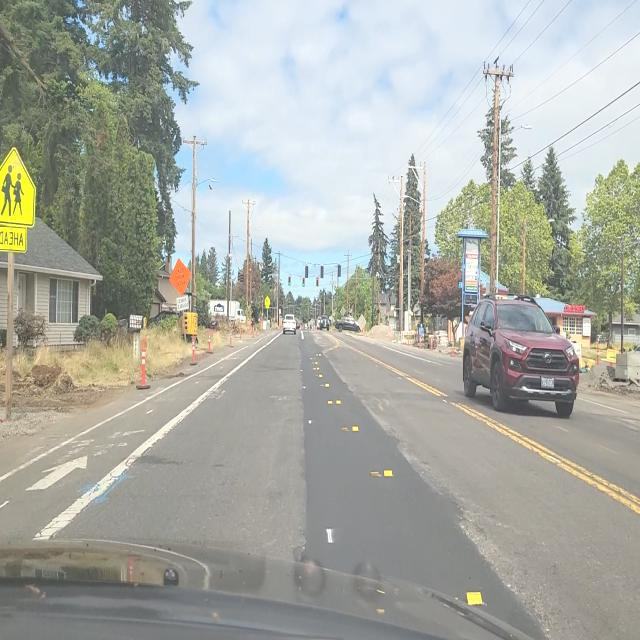car: (458, 292, 578, 416), (336, 318, 361, 332), (282, 314, 297, 335), (318, 315, 332, 331)
crosswalk-sign: (1, 150, 37, 258), (264, 296, 270, 309)
delineator: (137, 336, 152, 389), (190, 335, 198, 365), (207, 332, 212, 352), (596, 341, 600, 365), (451, 336, 455, 356), (229, 328, 233, 347), (239, 325, 242, 339), (251, 324, 254, 337), (389, 333, 392, 343)
